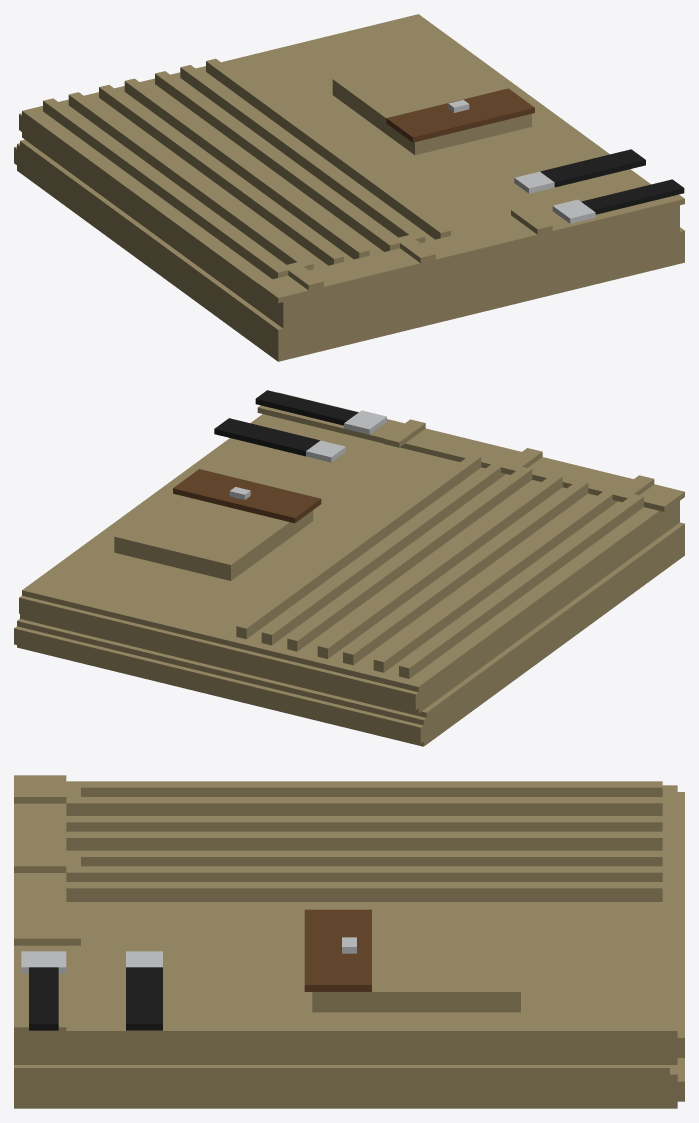
Rendered from kilt_utility.glb.
3 views of the same model, one above another, from view 1: azimuth 30°, elevation 25°; view 2: azimuth 150°, elevation 25°; view 3: azimuth 270°, elevation 25° (orthographic). The views are drawn at different scales.
Visible parts, largest first — view 1: kilt_utility:compound; view 2: kilt_utility:compound; view 3: kilt_utility:compound.
Boxes of the visible parts, left/top/right/bottom form: kilt_utility:compound: left=14, top=14, right=684, bottom=361; kilt_utility:compound: left=14, top=390, right=684, bottom=746; kilt_utility:compound: left=14, top=775, right=684, bottom=1108.
Bounding box in the file's own units: 0.324 × 0.064 × 0.36.
